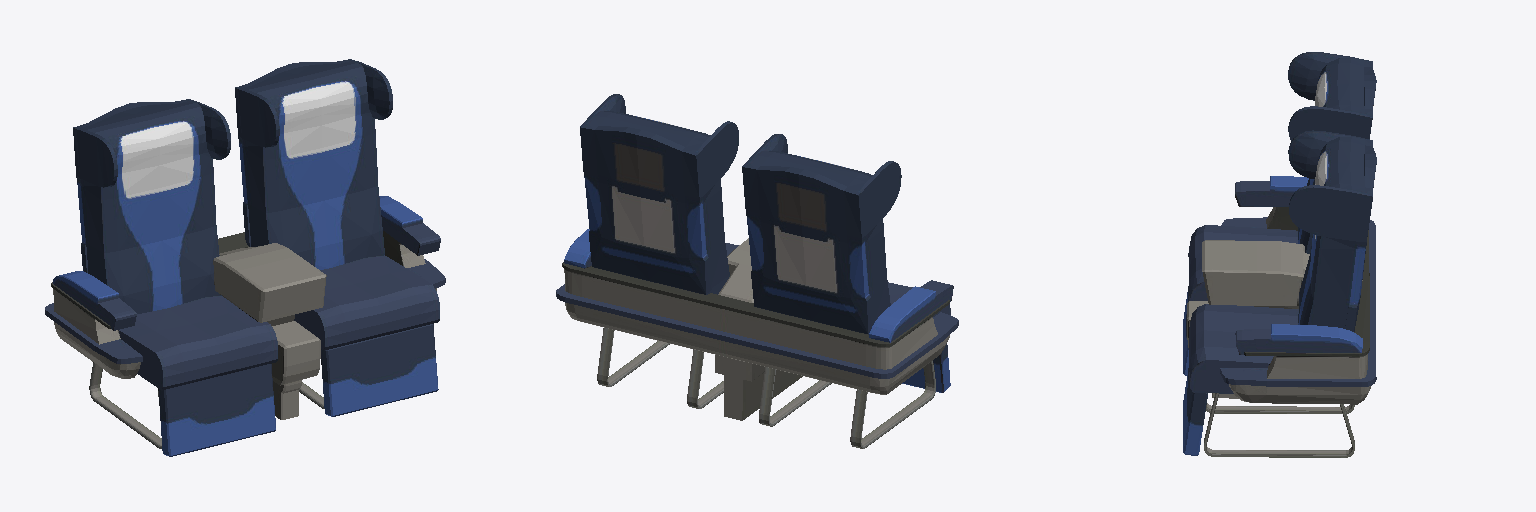
3 views of the same model, side by side, from view 1: azimuth 30°, elevation 25°; view 2: azimuth 150°, elevation 25°; view 3: azimuth 270°, elevation 25° (orthographic).
Bounding box in the file's own units: 3.25 × 2.55 × 1.62.
1 materials, 1 textured.